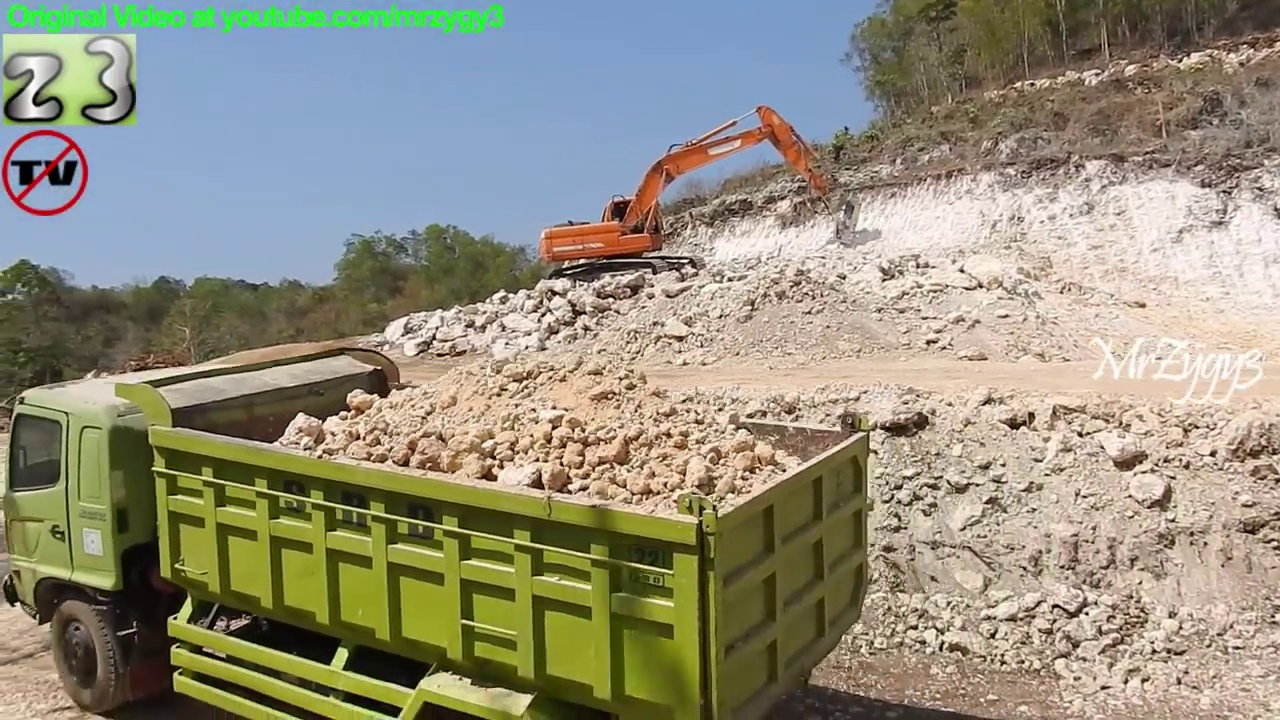excavator breaker: (537, 102, 864, 289)
truck: (1, 345, 874, 720)
